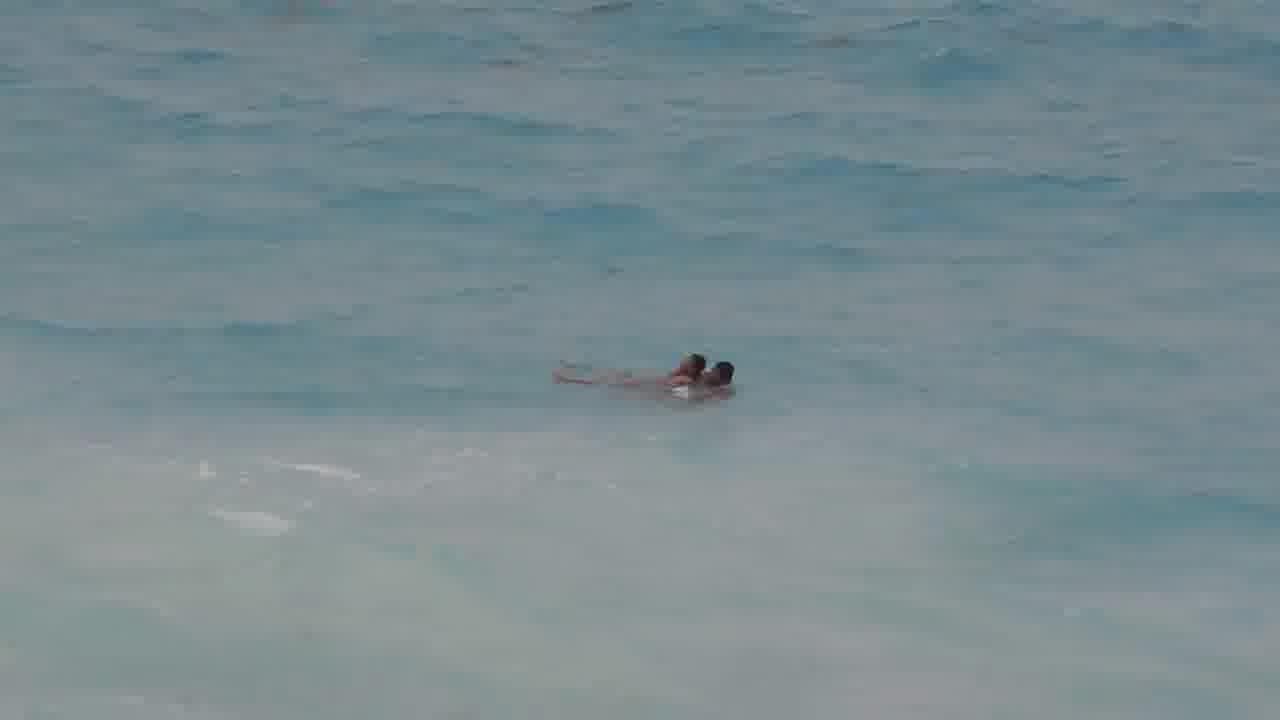swimmer: (537, 348, 701, 392), (695, 348, 748, 404)
